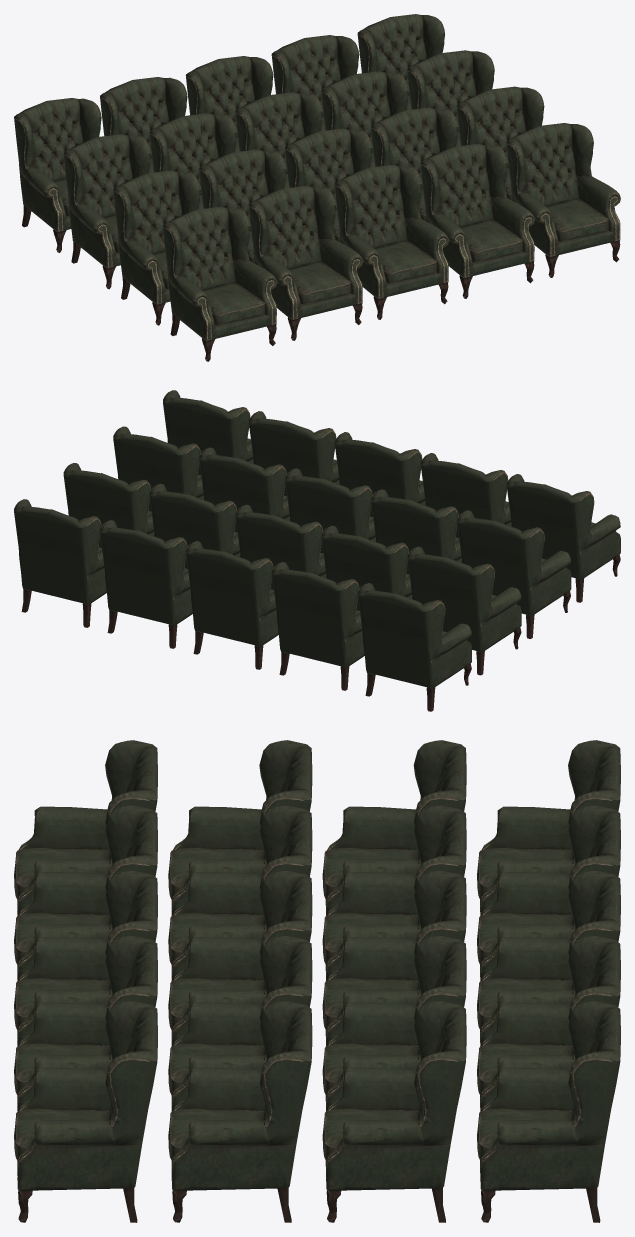
File: chair_merged.glb
3 views of the same model, one above another, from view 1: azimuth 30°, elevation 25°; view 2: azimuth 150°, elevation 25°; view 3: azimuth 270°, elevation 25° (orthographic). The views are drawn at different scales.
Visible parts, largest first — view 1: Mesh_0; view 2: Mesh_0; view 3: Mesh_0.
Part boxes in pixels (box(x1,y1,x2,y2)): Mesh_0: box(14, 14, 620, 361); Mesh_0: box(14, 390, 620, 711); Mesh_0: box(14, 740, 620, 1222).
Size of the model in its own units: 7.48 by 1.9 by 5.9.
1 material, 1 textured.
